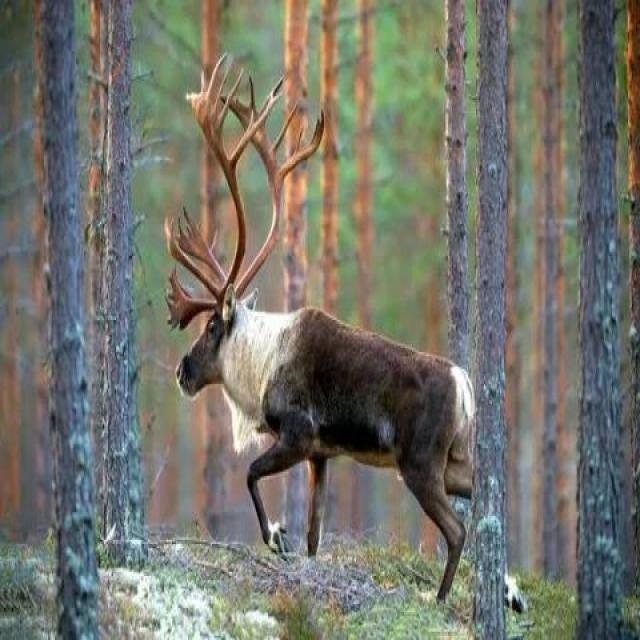deer: (148, 95, 524, 605)
